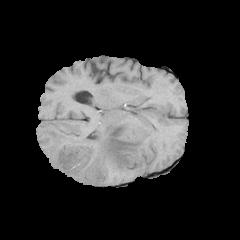glioma: (41, 121, 143, 185)
